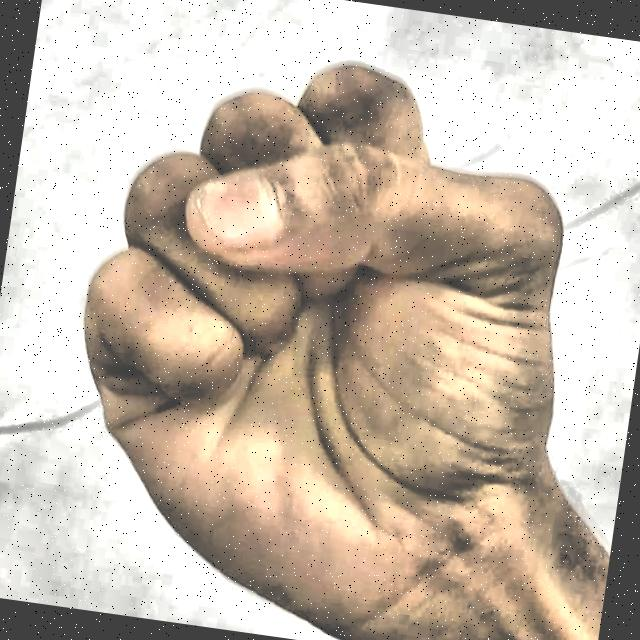Sha: (7, 0, 616, 640)
